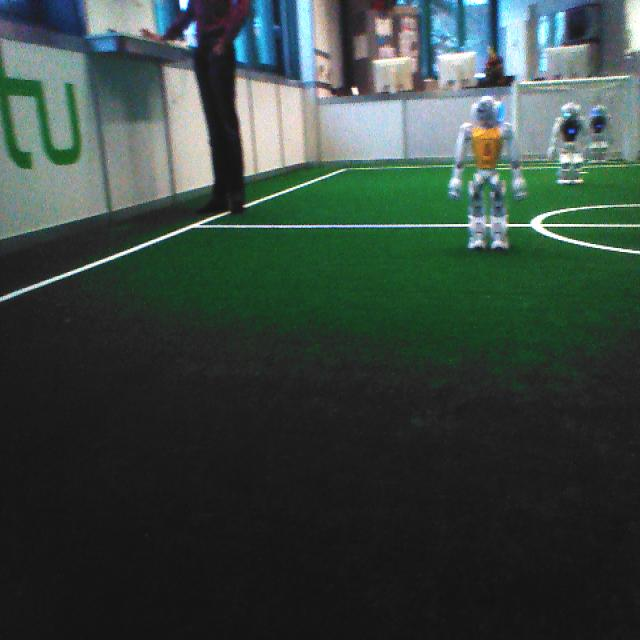goalpost: (626, 71, 640, 165), (507, 80, 520, 168)
